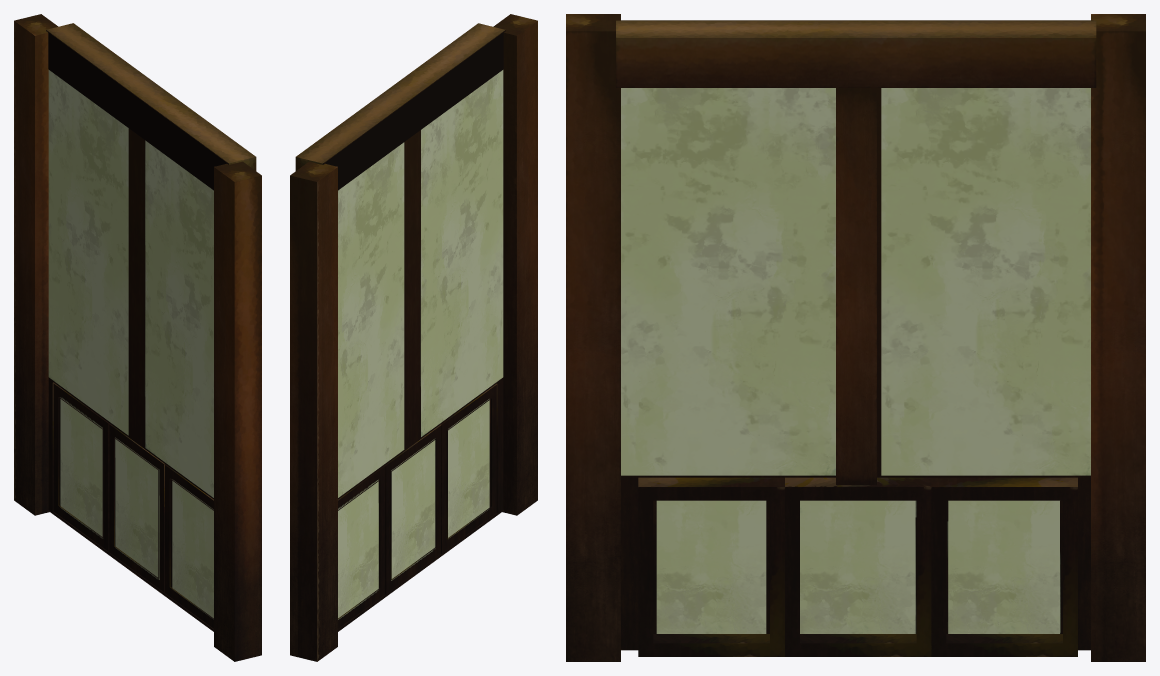
File: Wall_2.fbx
3 renders of one model, left to right at view 1: azimuth 30°, elevation 25°; view 2: azimuth 150°, elevation 25°; view 3: azimuth 270°, elevation 25°, orthographic. The views are drawn at different scales.
Visible parts, largest first — view 1: polySurface616; view 2: polySurface616; view 3: polySurface616.
Part boxes in pixels (x1,y1,x2,y2): polySurface616: (14,14,261,661); polySurface616: (290,14,537,661); polySurface616: (566,14,1145,661).
Size of the model in its own units: 4.11 by 46.65 by 38.76.
Materials: 1 (1 with a texture image).
